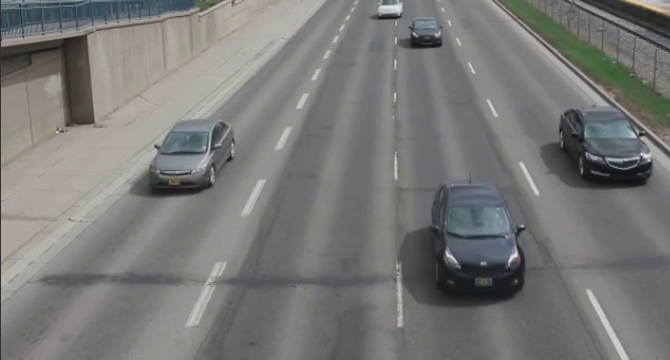car: (426, 181, 529, 302), (557, 106, 661, 187), (149, 118, 241, 191), (407, 12, 448, 54), (374, 1, 404, 20)
